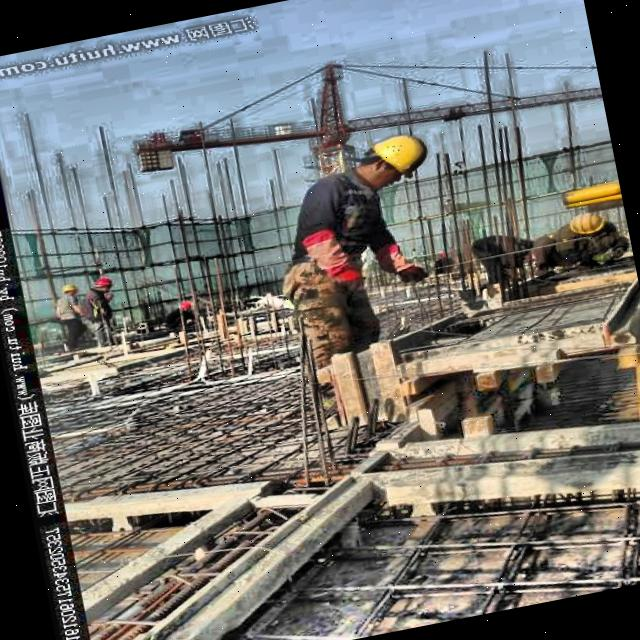helmet: (353, 127, 437, 188), (563, 206, 611, 237), (87, 270, 119, 294), (51, 280, 82, 301), (176, 295, 195, 312)
